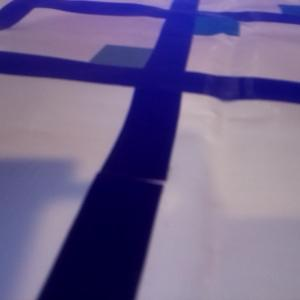bottom_right: (165, 11, 239, 35)
top_left: (89, 44, 185, 82)
